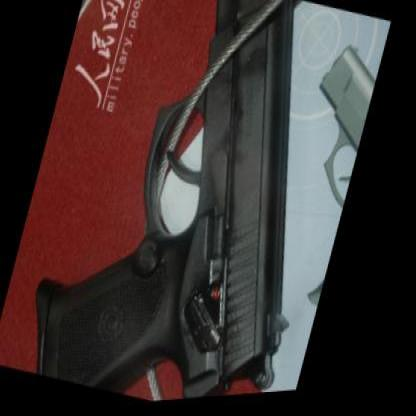pistol: (19, 0, 374, 409)
